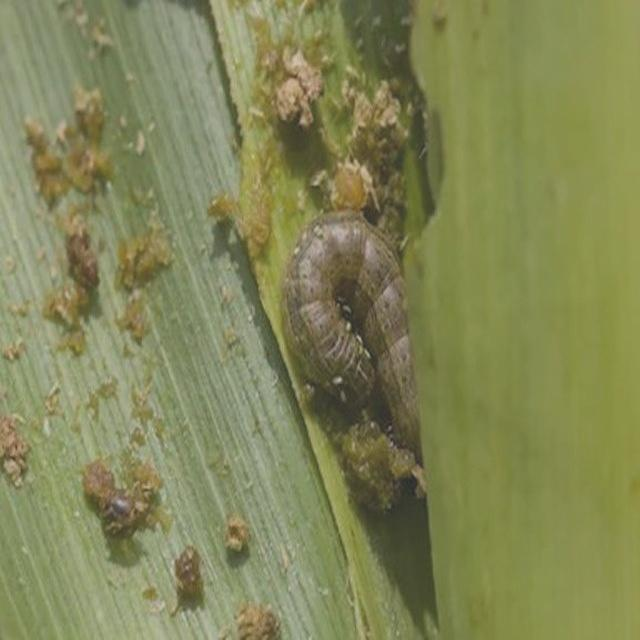gusano_cogollero: (286, 209, 420, 450)
